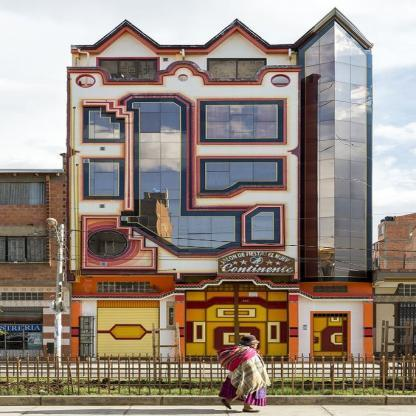Balcony: (66, 60, 302, 90)
Building Outline: (66, 6, 375, 363)
Cornice: (72, 276, 373, 301)
Door: (186, 292, 288, 363), (98, 301, 160, 360), (313, 313, 347, 362), (208, 60, 266, 88)
Facade: (66, 6, 376, 363)
Floor Slab: (66, 272, 299, 276), (67, 90, 300, 94), (66, 153, 299, 156), (66, 201, 299, 204)
Glass Wall: (121, 98, 246, 252), (299, 20, 372, 282)
Pillar: (288, 295, 299, 361), (175, 296, 185, 362), (363, 301, 373, 361), (72, 301, 81, 361)
Roof: (70, 6, 375, 50)
Shop: (218, 251, 295, 275)
Sill: (198, 185, 285, 198)
Window: (200, 101, 282, 142), (201, 159, 283, 192), (84, 159, 124, 199), (83, 107, 124, 142), (99, 60, 156, 81), (246, 208, 280, 243), (97, 282, 149, 293), (313, 285, 348, 293)
